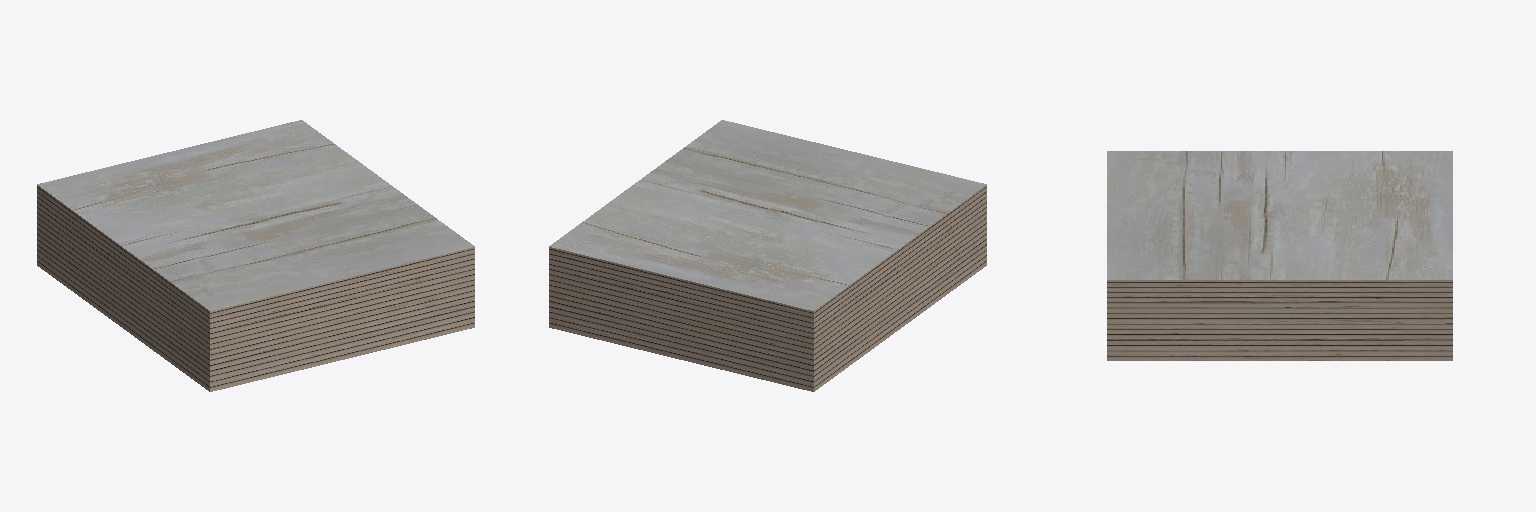
The picture shows the model from 3 angles: view 1: azimuth 30°, elevation 25°; view 2: azimuth 150°, elevation 25°; view 3: azimuth 270°, elevation 25°; orthographic projection.
Parts seen in each view (by area): view 1: Cube; view 2: Cube; view 3: Cube.
Boxes of the visible parts, <box> form: Cube: <box>37,120,474,391</box>; Cube: <box>549,120,986,391</box>; Cube: <box>1107,151,1452,360</box>.
Bounding box in the file's own units: 16.5 × 4.82 × 18.7.
Materials: 1 (1 with a texture image).